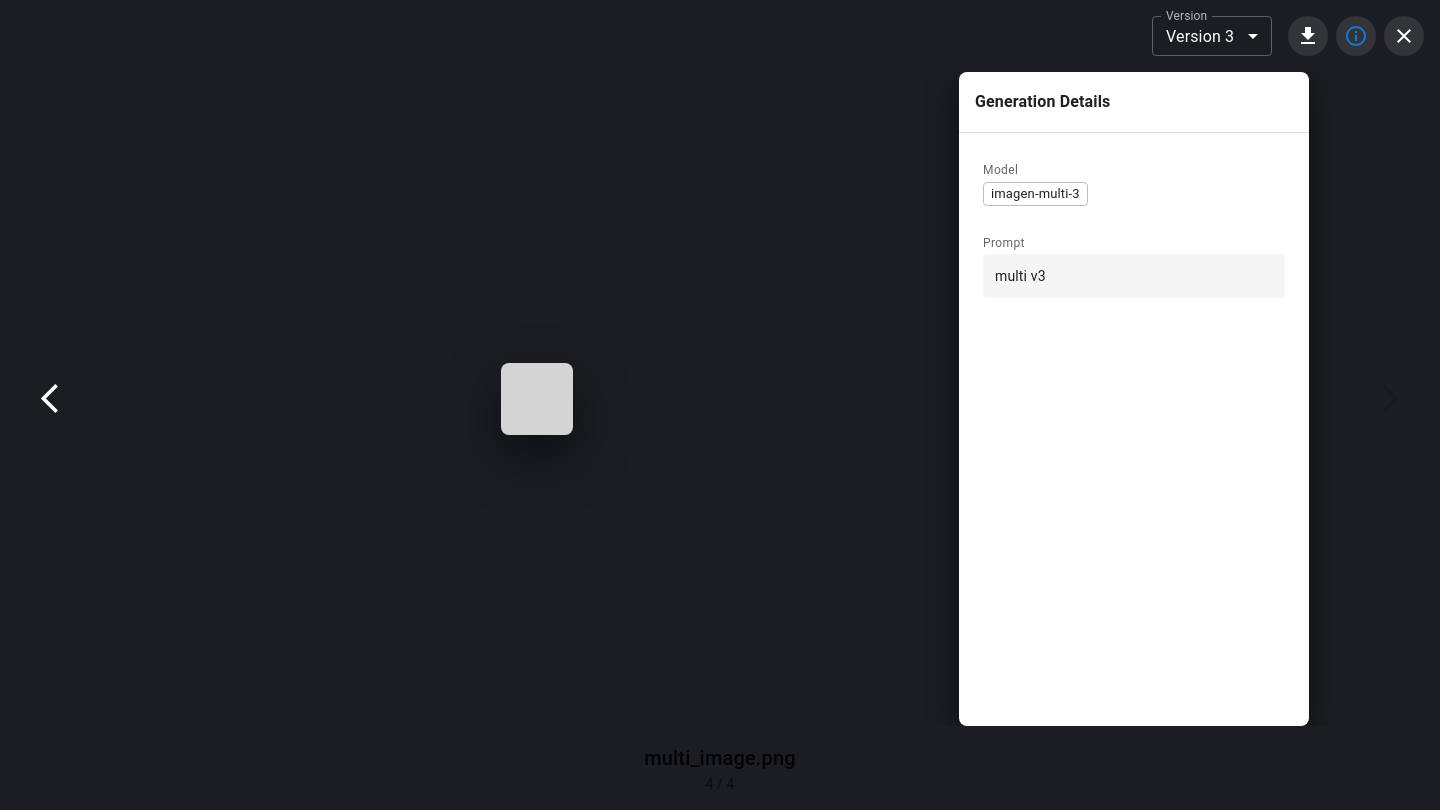
Test: AssetModal › should allow switching between versions and update content/config
The width and height of the screenshot is (1440, 810).
Expected: the text "imagen-multi-3" is shown, [984,184,1087,204]
Expected: the text "multi v3" is shown, [995,268,1046,284]
Note: Open the version select dropdown
Click the dropdown labelled "Version".
click(1200, 36)  # box [1166,26,1234,46]
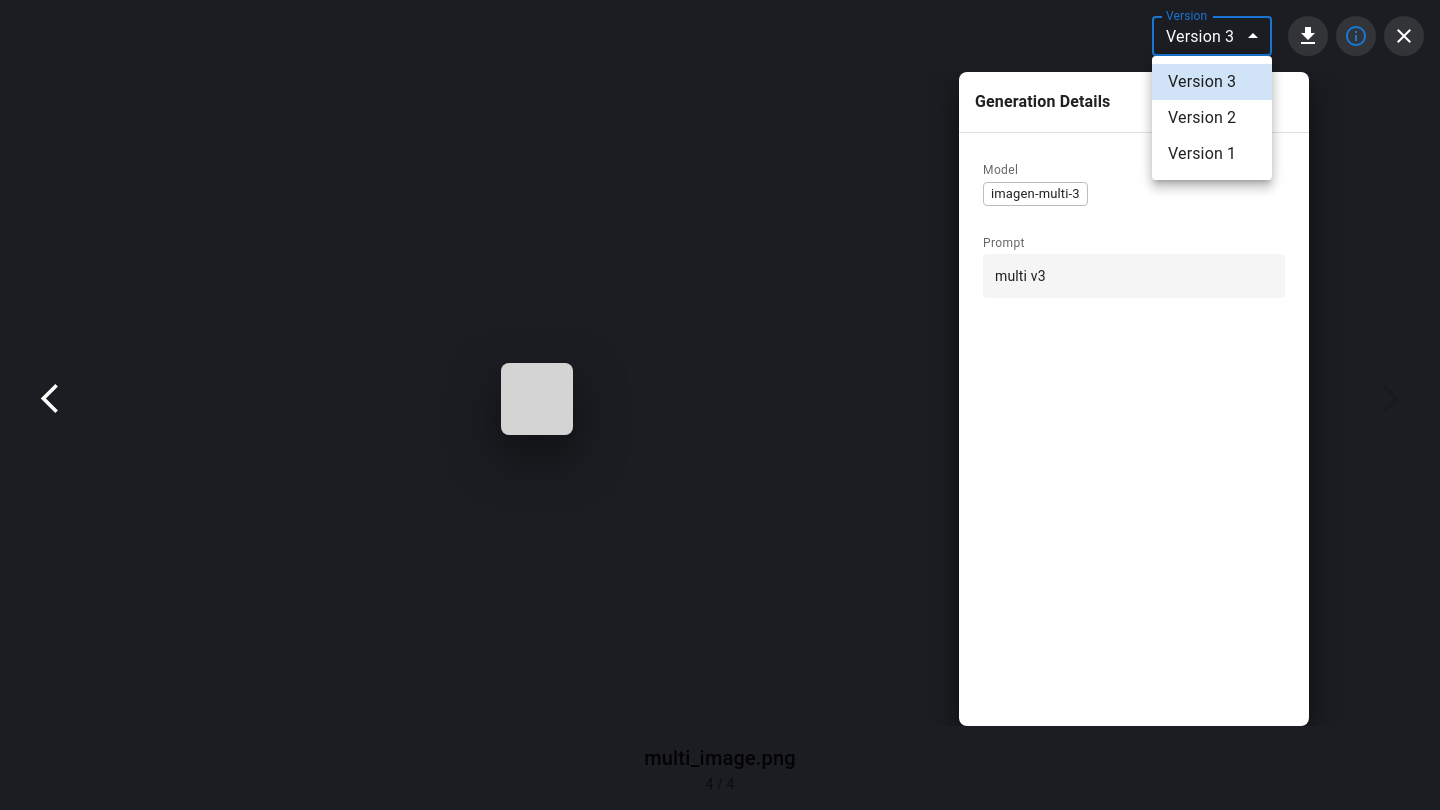
Note: Select version 1
Click the option "Version 1".
click(1202, 154)  # box [1168,144,1236,163]
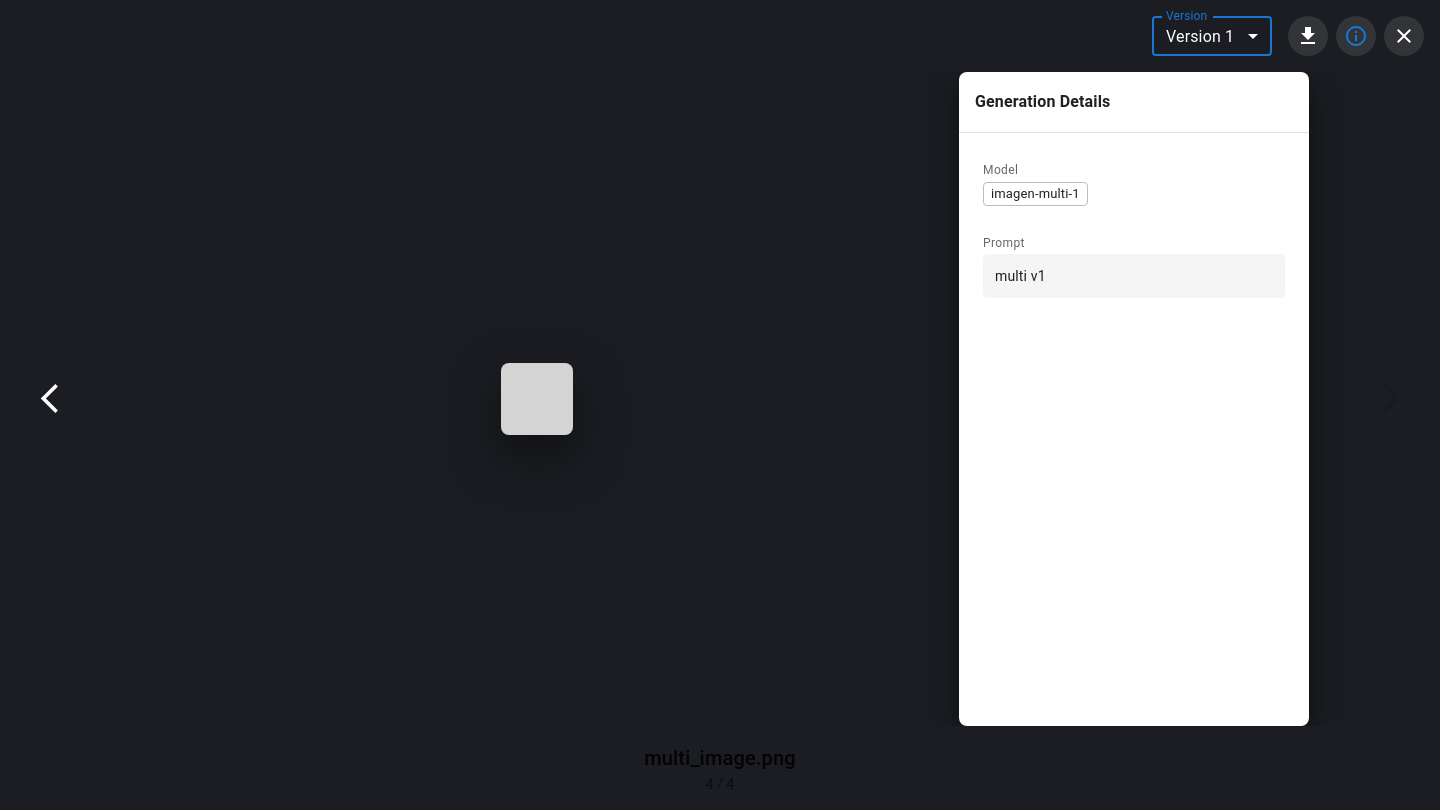
Now the text "imagen-multi-1" is shown, box [984,184,1087,204]
Now the text "multi v1" is shown, box [995,268,1046,284]
